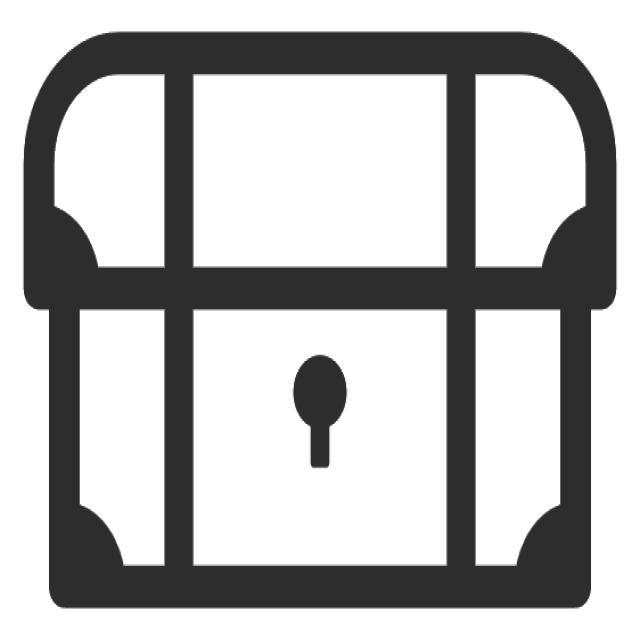treasure_box: (11, 28, 626, 621)
